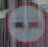No overtake: (2, 1, 47, 43)
